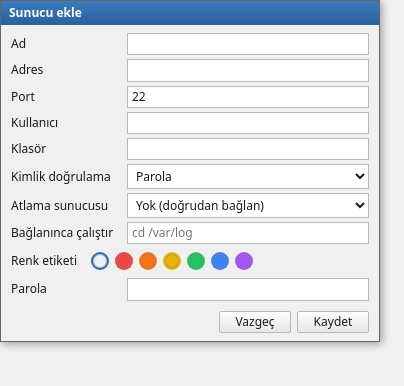
Scenario: requires host and a valid port before saving
The width and height of the screenshot is (404, 386).
Type "x" into the field labelled "Ad".
click(248, 44); type("x")  # box [127,33,369,55]
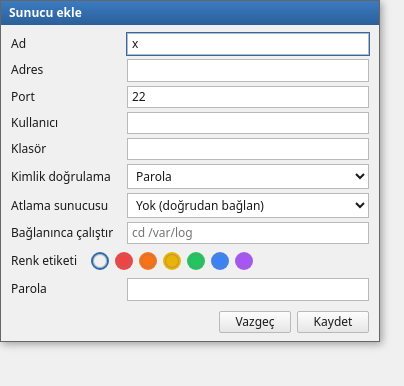
Type "root" into the field labelled "Kullanıcı".
click(248, 123); type("root")  # box [127,112,369,134]
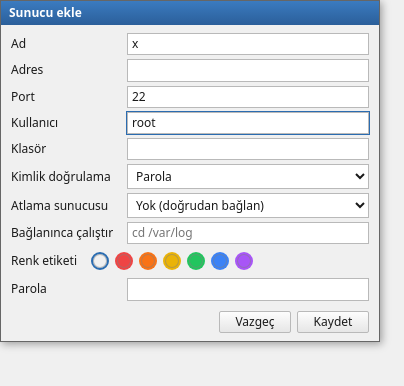
Click the button "Kaydet".
click(333, 322)  # box [297,310,369,333]
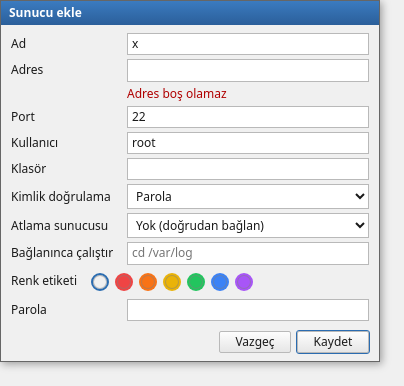
Check: the text "Adres boş olamaz" is shown, box [127,85,227,102]
Type "h" into the field labelled "Adres".
click(248, 70); type("h")  # box [127,59,369,82]
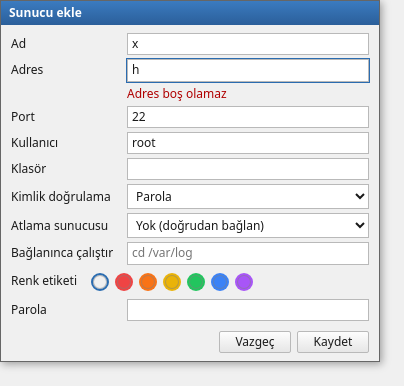
Replace the text in the field labelled "Port" with "70000" at {"x": 248, "y": 117}, box [127,106,369,128]
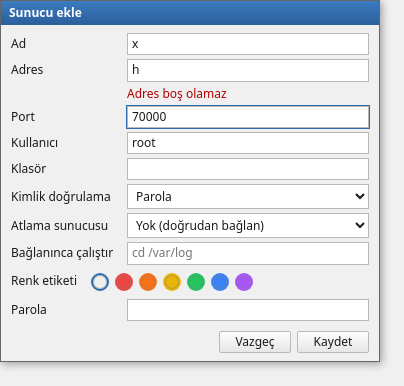
Click the button "Kaydet".
click(333, 342)  # box [297,331,369,353]
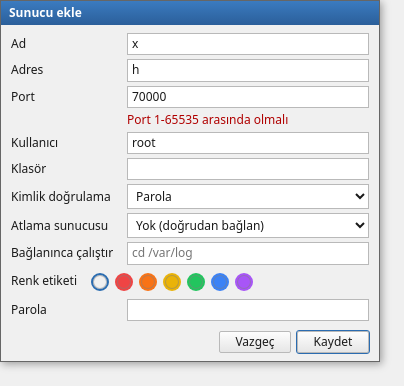
Check: the text "Port 1-65535 arasında olmalı" is shown, box [127,111,288,128]
